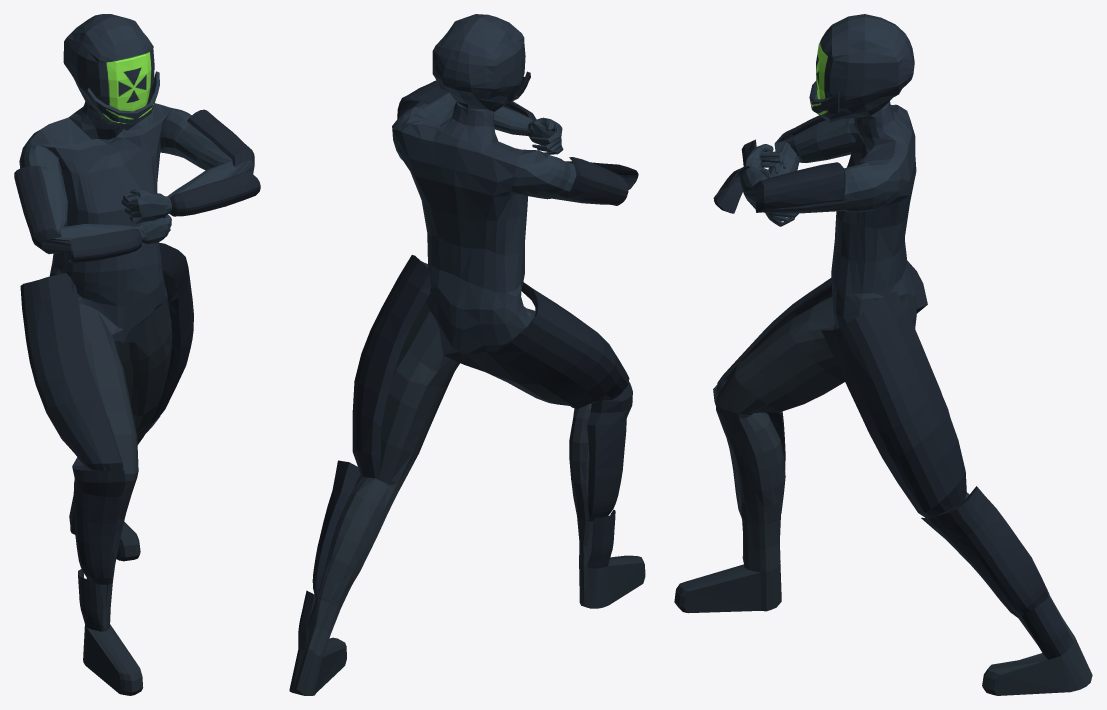
The model's file is Bastion_WR_000026.obj.
The picture shows the model from 3 angles, left to right: view 1: azimuth 30°, elevation 25°; view 2: azimuth 150°, elevation 25°; view 3: azimuth 270°, elevation 25°; orthographic projection. The views are drawn at different scales.
Parts seen in each view (by area): view 1: Cube.002; view 2: Cube.002; view 3: Cube.002.
Boxes of the visible parts, left/top/right/bottom form: Cube.002: left=14, top=14, right=260, bottom=695; Cube.002: left=289, top=14, right=645, bottom=695; Cube.002: left=674, top=14, right=1092, bottom=695.
Size of the model in its own units: 1.31 by 3.59 by 2.15.
